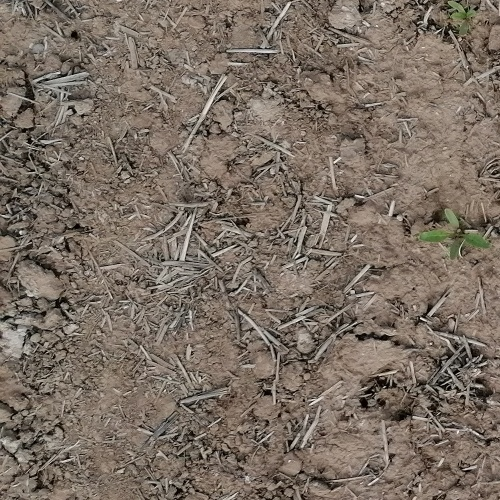beet: (419, 209, 489, 261)
